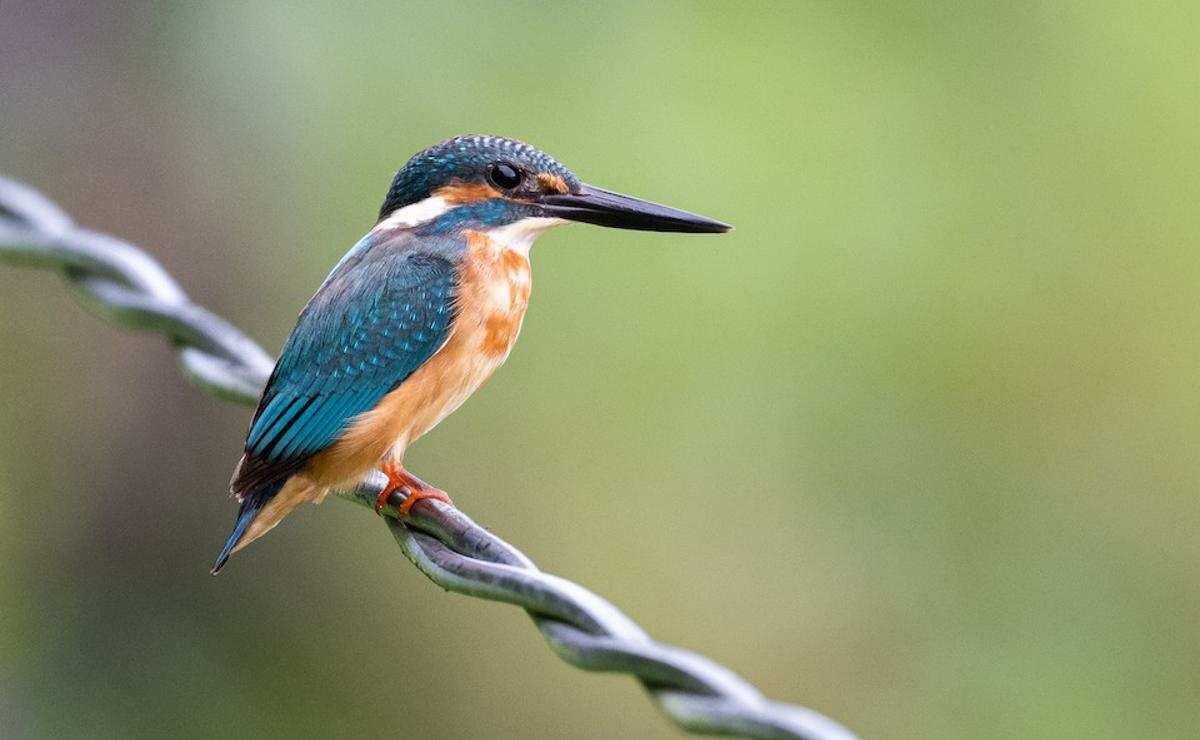kingfisher: (173, 128, 764, 587)
